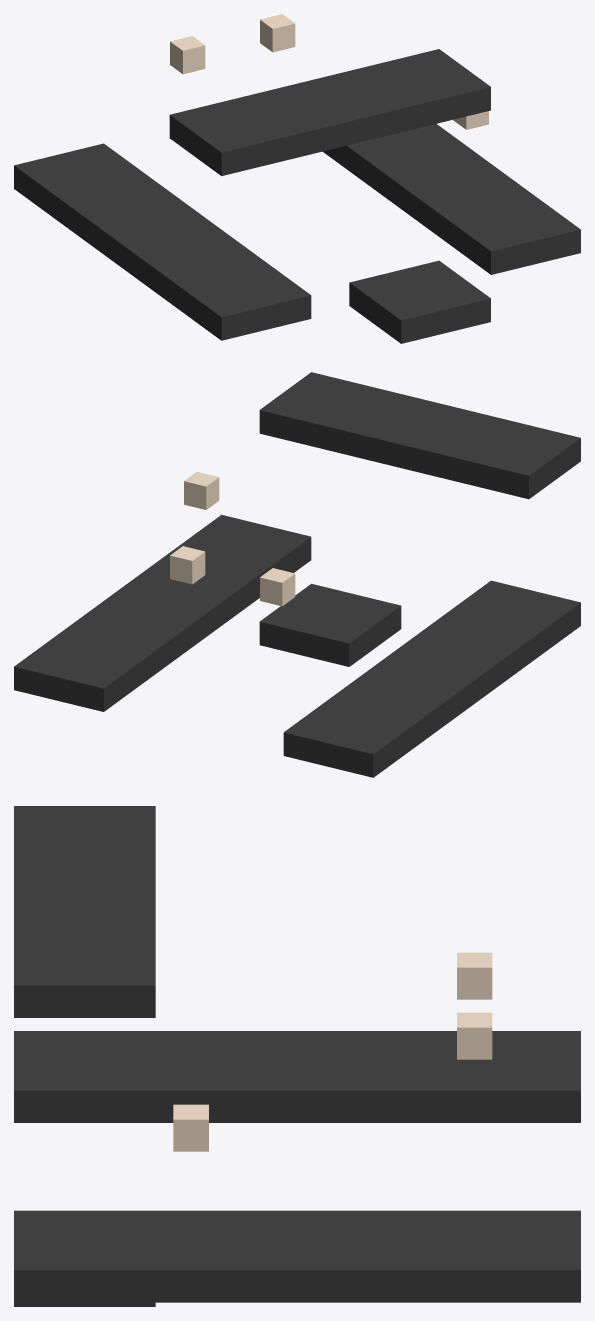
Rendered from BackAndForthMiniature.glb.
3 renders of one model, top to bottom at view 1: azimuth 30°, elevation 25°; view 2: azimuth 150°, elevation 25°; view 3: azimuth 270°, elevation 25°, orthographic. The views are drawn at different scales.
Parts seen in each view (by area): view 1: cuboid (×6); view 2: cuboid (×7); view 3: cuboid (×7).
Part boxes in pixels (left/top/right/bottom): cuboid (×6): left=14, top=14, right=580, bottom=343; cuboid (×7): left=14, top=372, right=580, bottom=777; cuboid (×7): left=14, top=806, right=580, bottom=1306.
Bounding box in the file's own units: 1 × 0.625 × 1.
Materials: 2 (2 with a texture image).
